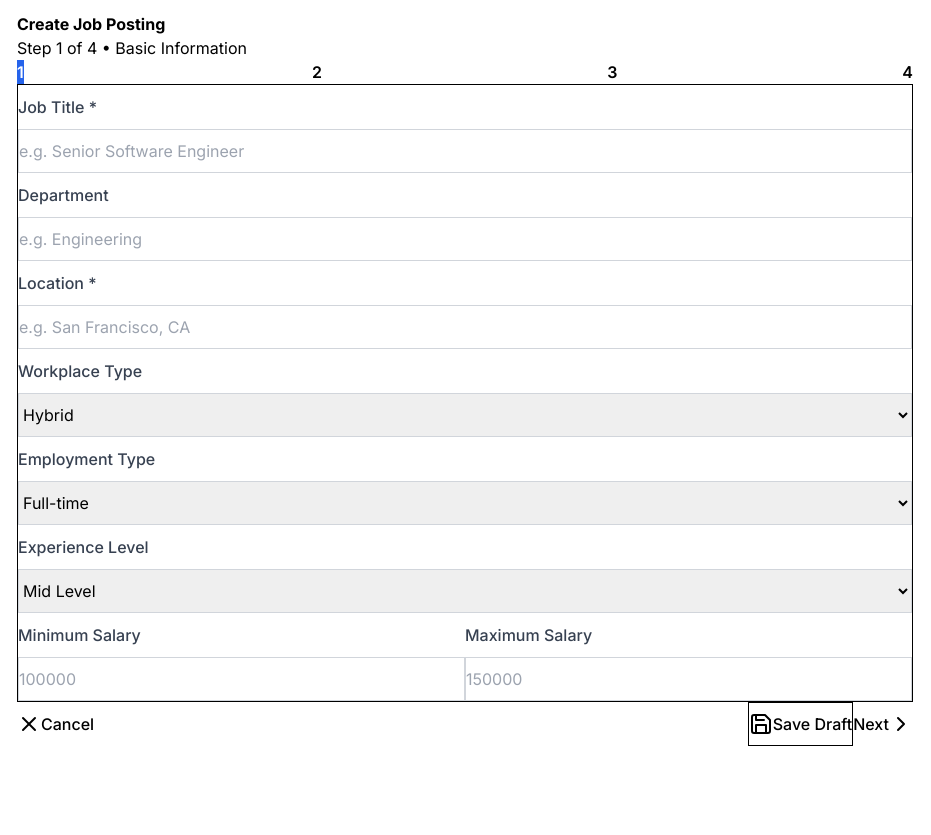
Test: JobPosting Component › should validate salary range (min < max)
The image size is (931, 835).
Type "150000" into the number field labelled "Minimum Salary" at (242, 679), box [18,657,465,701]
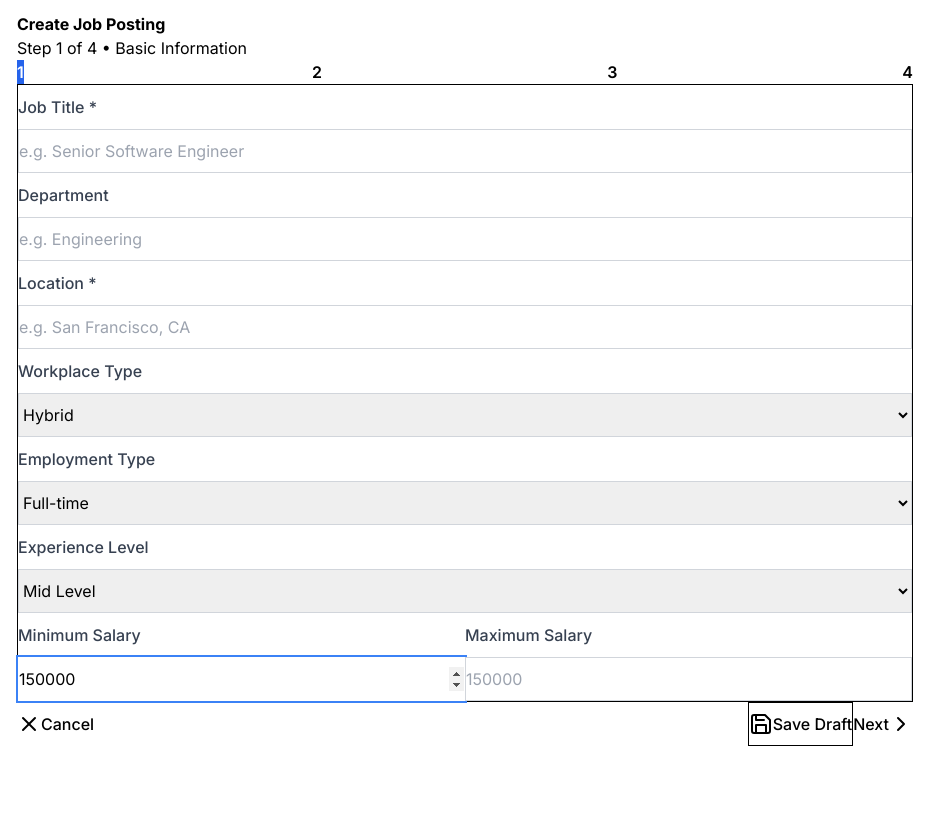
Type "100000" into the number field labelled "Maximum Salary" at (688, 679), box [465,657,912,701]
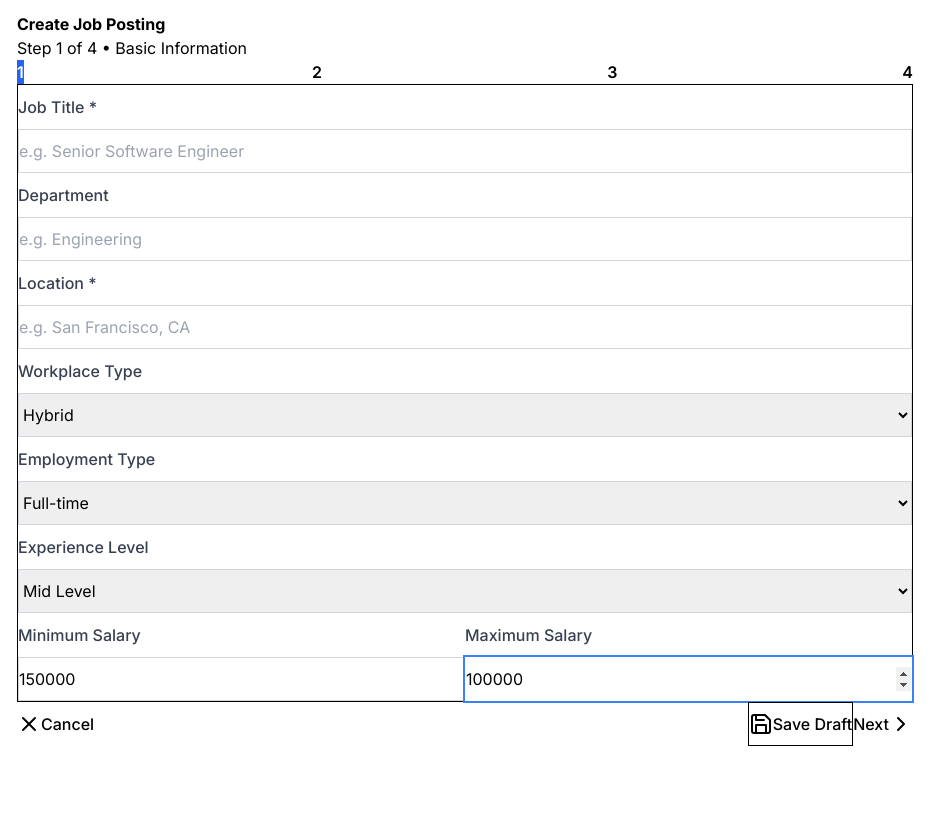
Click the button "Next" at (883, 724), box [853,702,913,746]
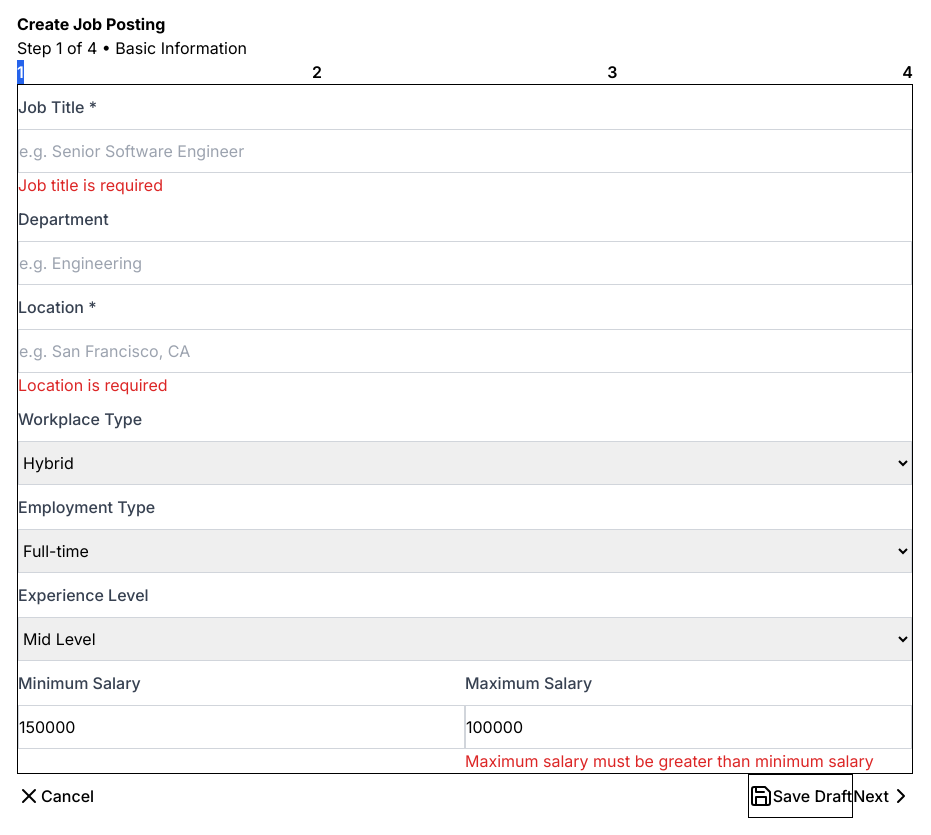
Expected: the text "Maximum salary must be greater than minimum salary" is shown, [465,749,912,773]
